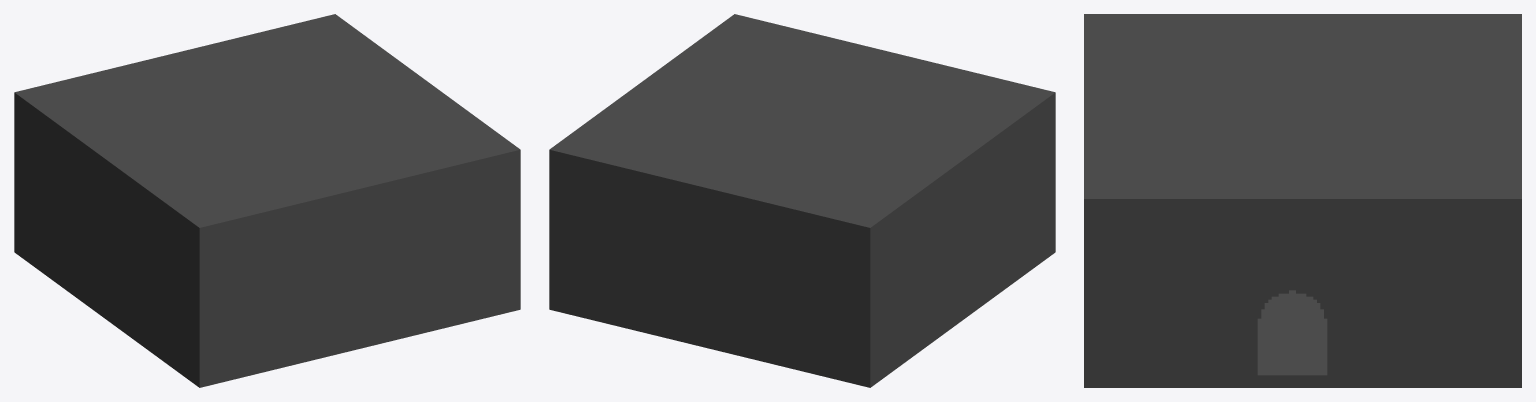
The model's file is Area8.obj.
3 views of the same model, side by side, from view 1: azimuth 30°, elevation 25°; view 2: azimuth 150°, elevation 25°; view 3: azimuth 270°, elevation 25° (orthographic). The views are drawn at different scales.
Bounding box in the file's own units: 126 × 60 × 126.
1 material, 1 textured.
